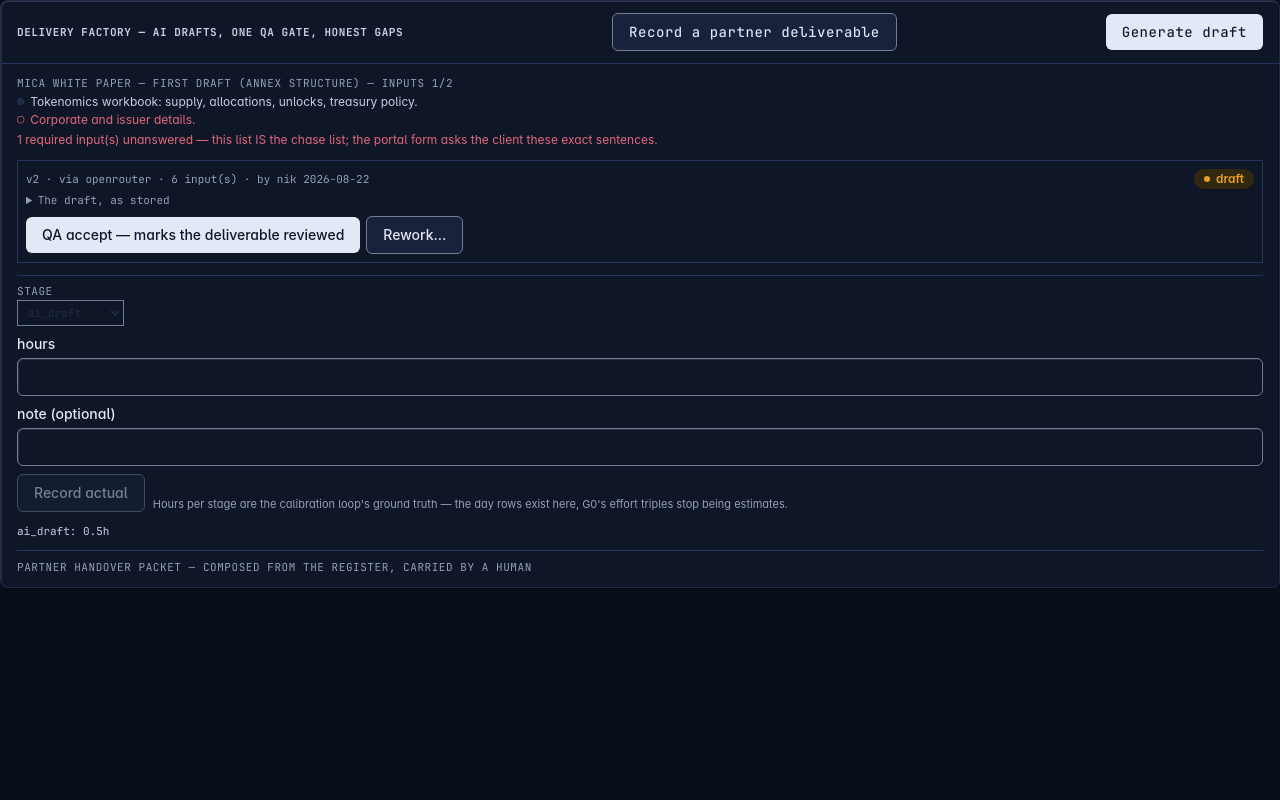
Test: the factory panel › the handover packet is a read: rate-card honesty shown, no send control anywhere
This screenshot has width=1280, height=800.
Click the button with test id "handover-toggle" at (274, 567), box x1=17 y1=560 x2=532 y2=574
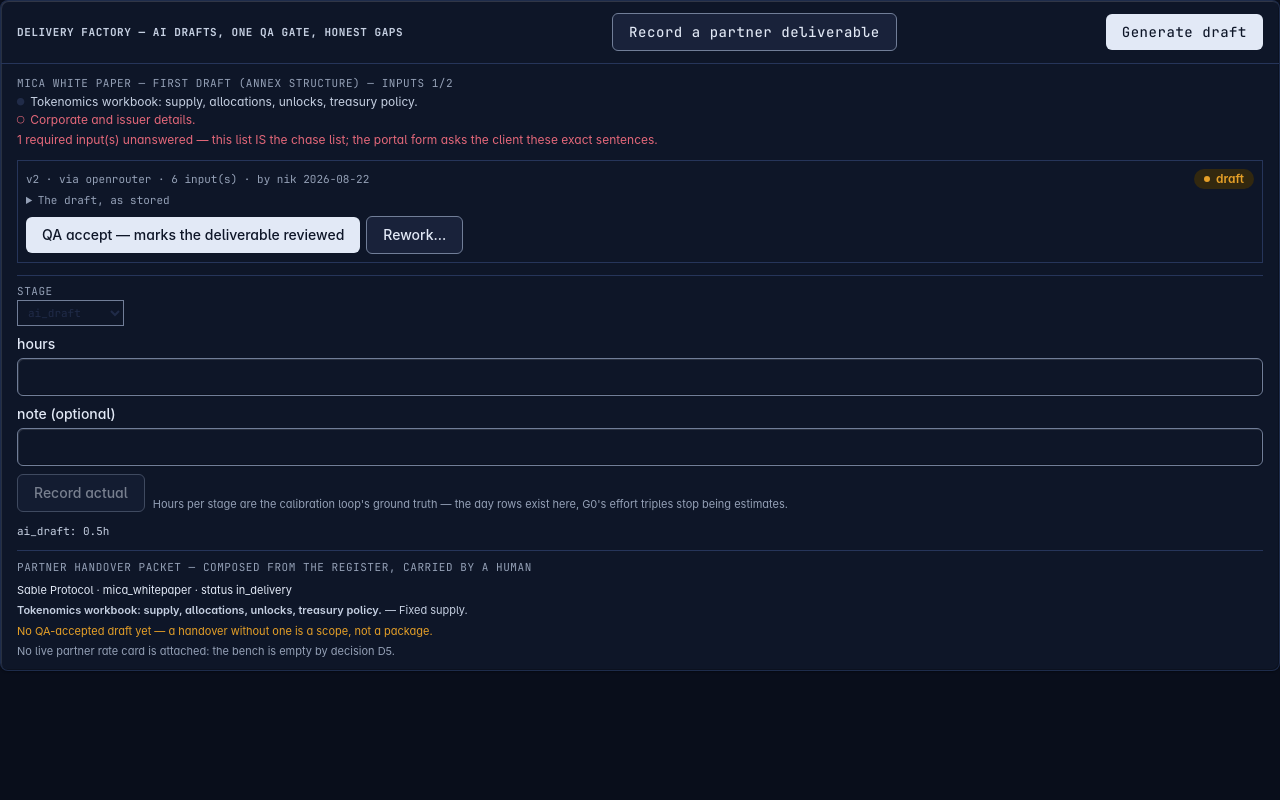
Expected: the element with test id "handover-packet" shows "bench is empty by decision D5", x1=17 y1=644 x2=395 y2=658
Expected: the element with test id "handover-packet" shows "a handover without one is a scope, not a package", x1=17 y1=624 x2=433 y2=638
